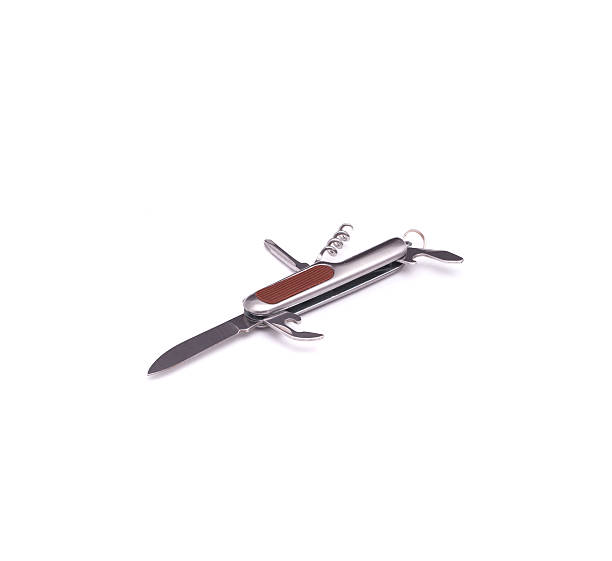knife: (144, 309, 263, 376), (265, 309, 326, 343), (397, 247, 468, 267)
